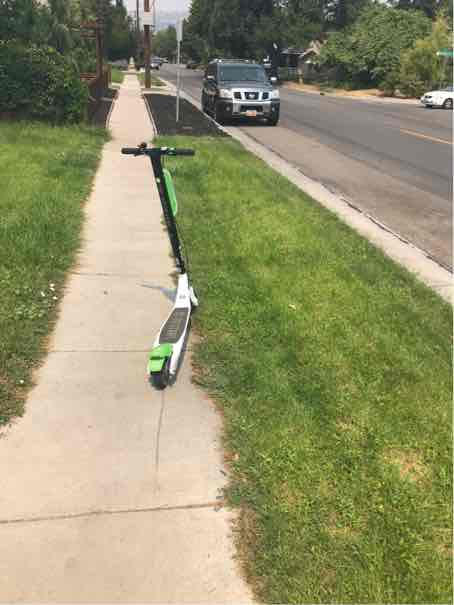scooter: (104, 139, 214, 396)
